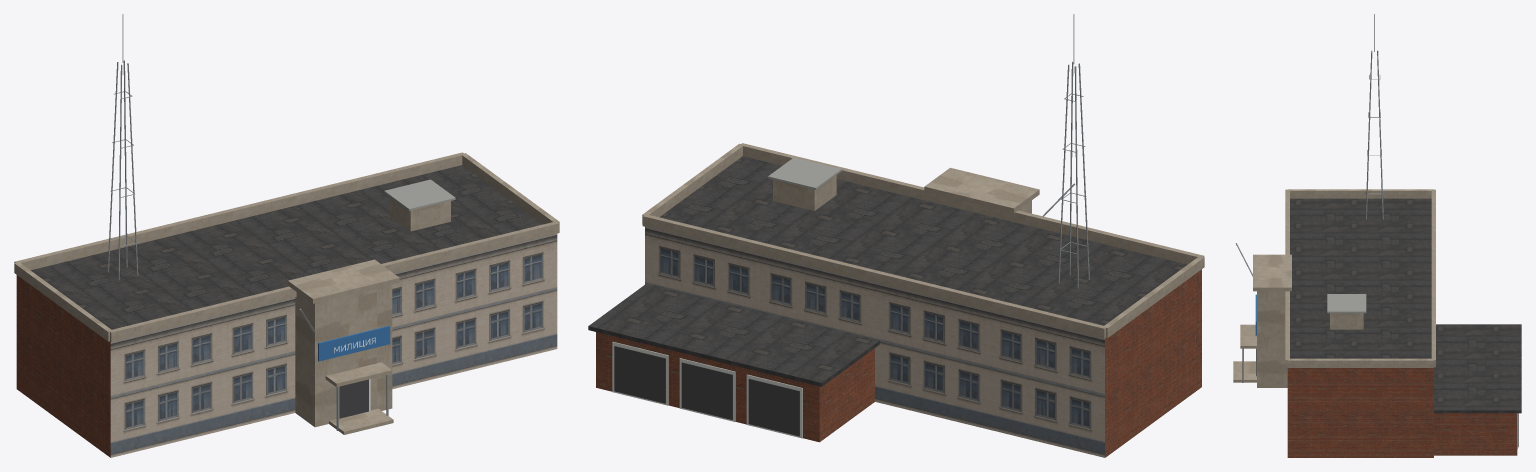
Rendered from police_station_1997.glb.
3 views of the same model, side by side, from view 1: azimuth 30°, elevation 25°; view 2: azimuth 150°, elevation 25°; view 3: azimuth 270°, elevation 25° (orthographic). The views are drawn at different scales.
Visible parts, largest first — view 1: police_station_1997; view 2: police_station_1997; view 3: police_station_1997.
Boxes of the visible parts, bbox=[...] form: police_station_1997: bbox=[14, 14, 559, 457]; police_station_1997: bbox=[588, 14, 1204, 457]; police_station_1997: bbox=[1233, 14, 1521, 457].
Bounding box in the file's own units: 29.12 × 23.8 × 20.7.
9 materials, 3 textured.
